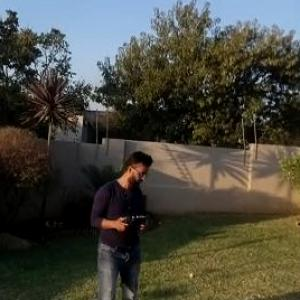follow: (88, 148, 157, 299)
